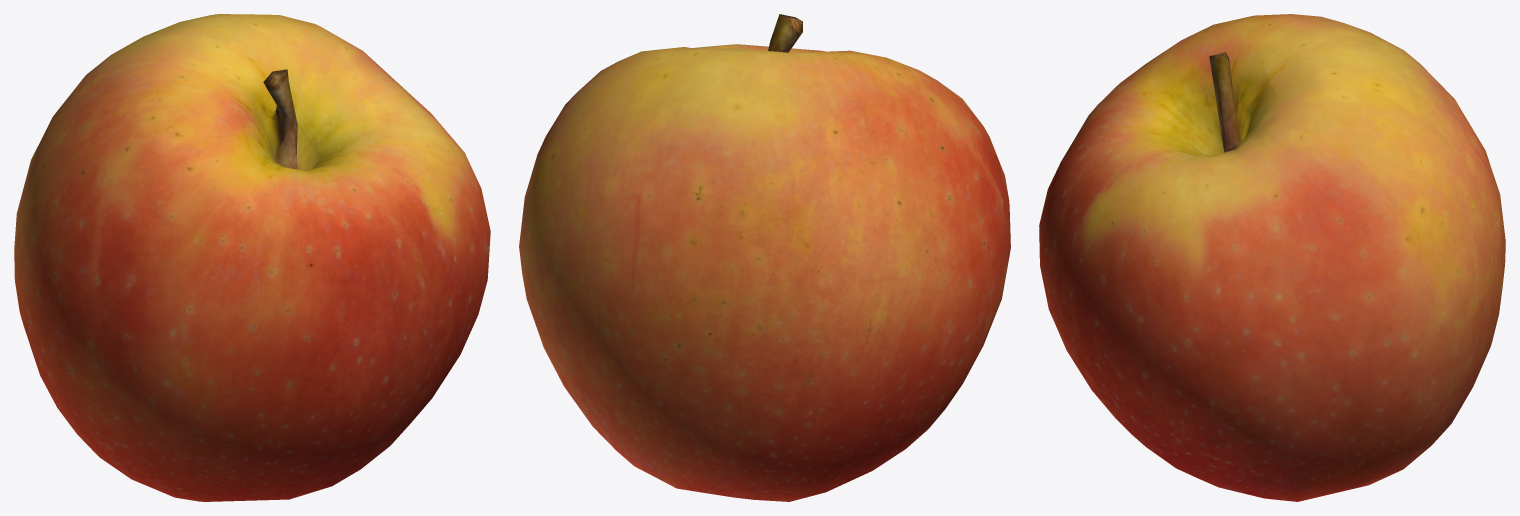
Rendered from 3DApple002_LQ-1K-JPG.obj.
3 views of the same model, side by side, from view 1: azimuth 30°, elevation 25°; view 2: azimuth 150°, elevation 25°; view 3: azimuth 270°, elevation 25° (orthographic). The views are drawn at different scales.
Visible parts, largest first — view 1: 3DApple002_LQ-1K-JPG; view 2: 3DApple002_LQ-1K-JPG; view 3: 3DApple002_LQ-1K-JPG.
Boxes of the visible parts, x1,y1,x2,y2 form: 3DApple002_LQ-1K-JPG: (14,14,490,501); 3DApple002_LQ-1K-JPG: (519,14,1010,501); 3DApple002_LQ-1K-JPG: (1039,14,1505,501).
Bounding box in the file's own units: 0.0698 × 0.0679 × 0.0695.
1 material, 1 textured.
